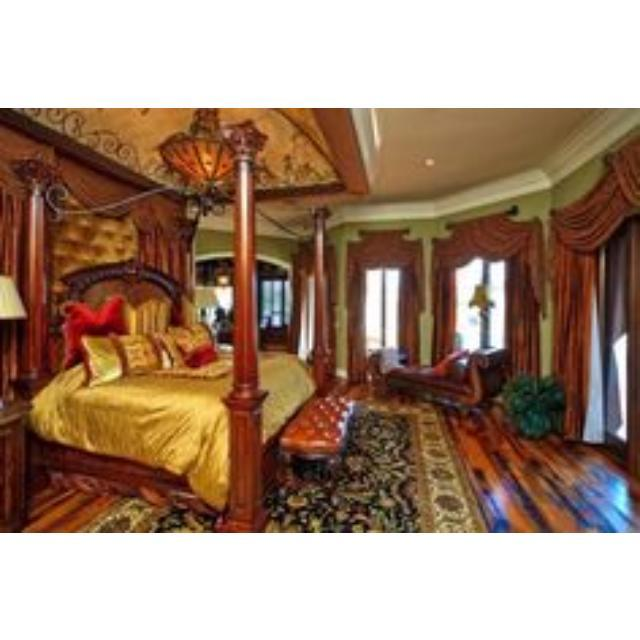bed: (219, 212, 564, 515)
chair: (70, 374, 165, 437)
lamp: (568, 316, 628, 392), (155, 325, 188, 422)
light: (241, 109, 335, 220), (159, 107, 234, 181)
plant: (0, 260, 60, 416), (569, 316, 628, 344)
rug: (266, 401, 481, 532), (86, 498, 215, 532)
table: (0, 422, 640, 531), (568, 396, 640, 480)
